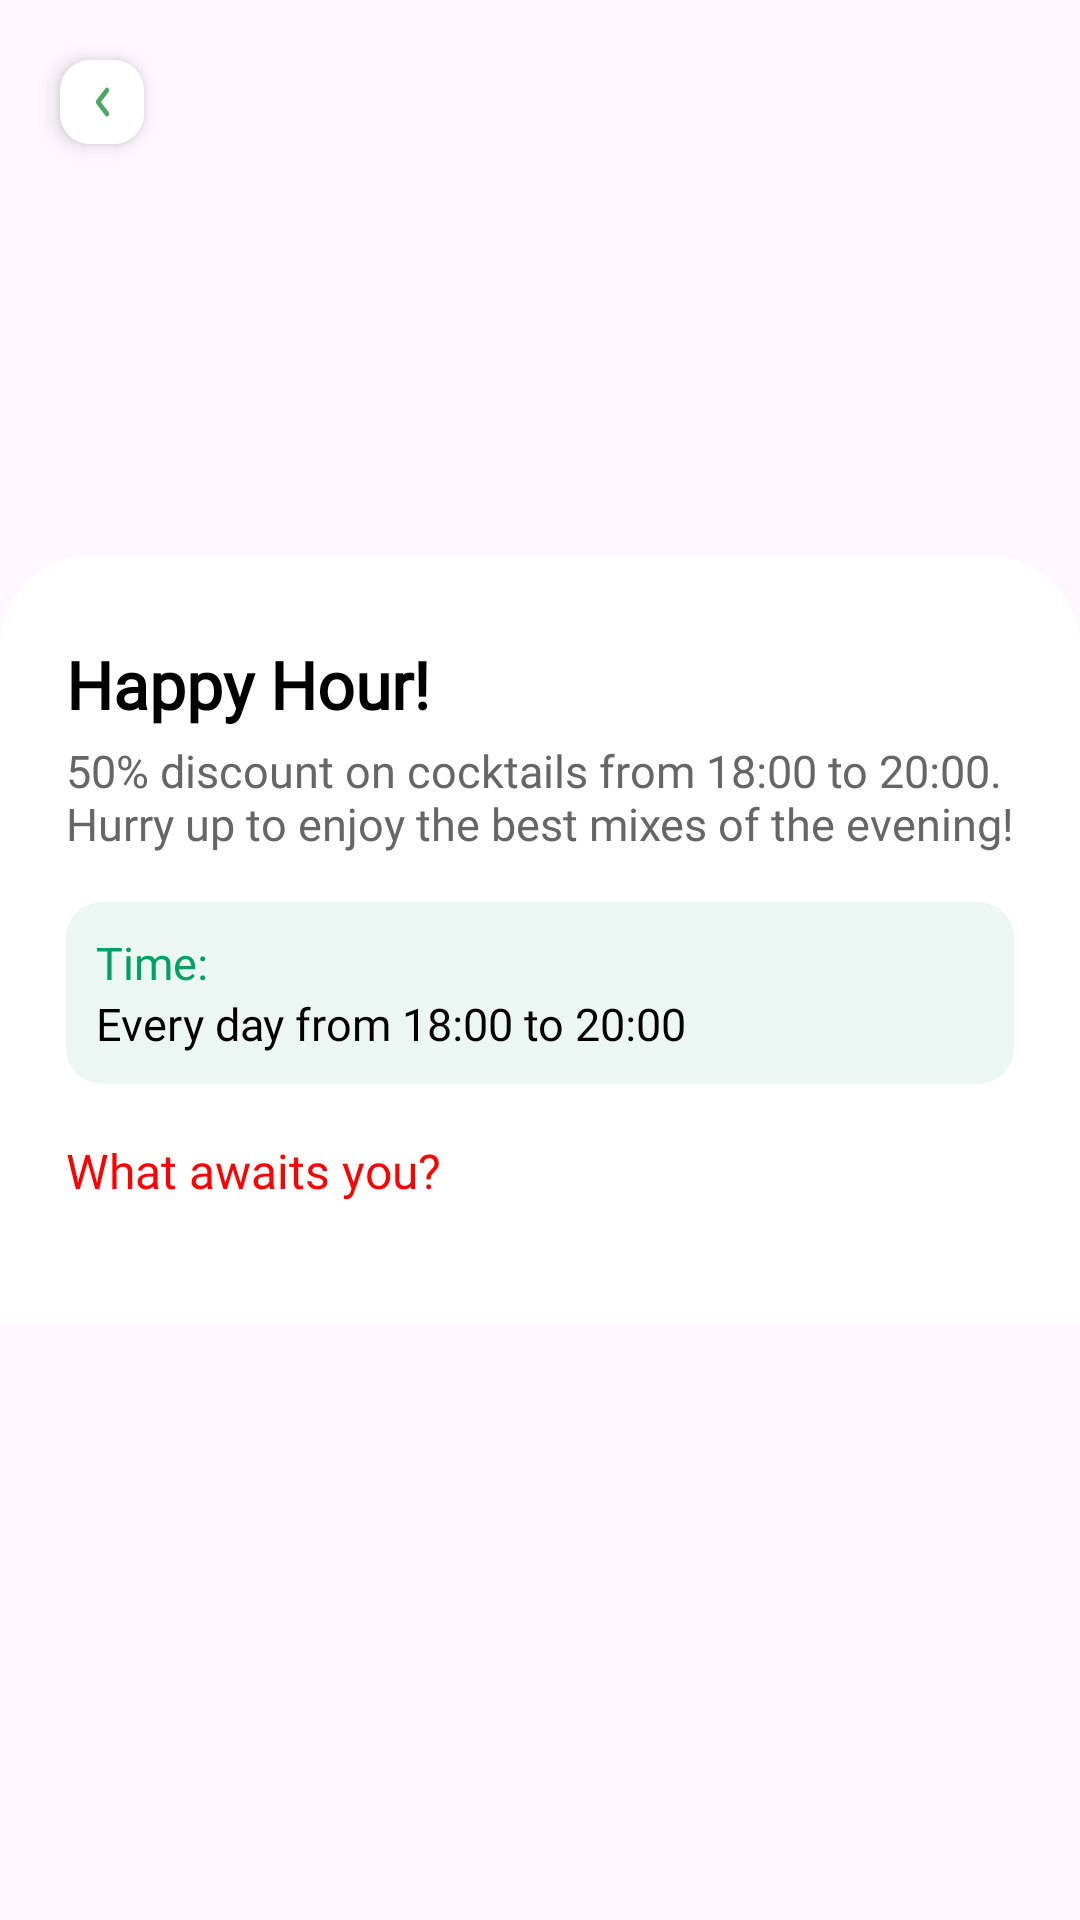

Icon bounding boxes for this 1080*1920 phone screenshot, format (left=x1, top=y1, right=x2, bottom=y2):
arrow left: (left=60, top=60, right=144, bottom=144)
